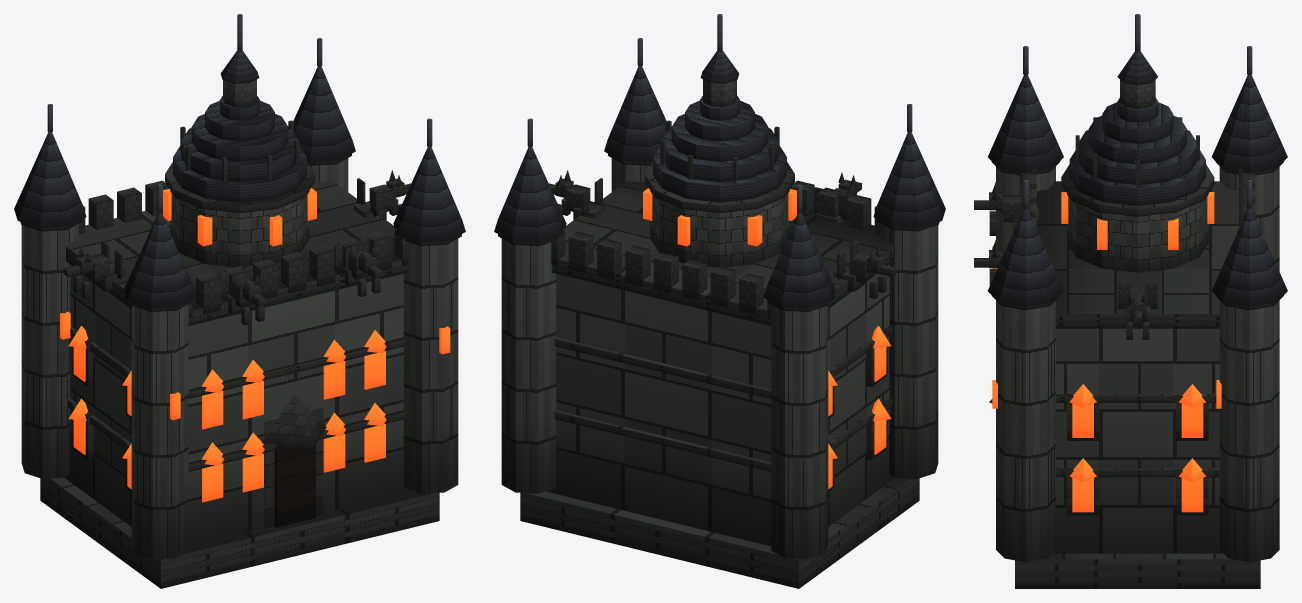
Rendered from manor.glb.
3 views of the same model, side by side, from view 1: azimuth 30°, elevation 25°; view 2: azimuth 150°, elevation 25°; view 3: azimuth 270°, elevation 25° (orthographic).
Visible parts, largest first — view 1: manor; view 2: manor; view 3: manor.
Boxes of the visible parts, <box> form: manor: <box>14,14,465,588</box>; manor: <box>494,14,945,588</box>; manor: <box>974,14,1287,588</box>.
Bounding box in the file's own units: 3 × 4.08 × 2.3.
Materials: 1 (1 with a texture image).
